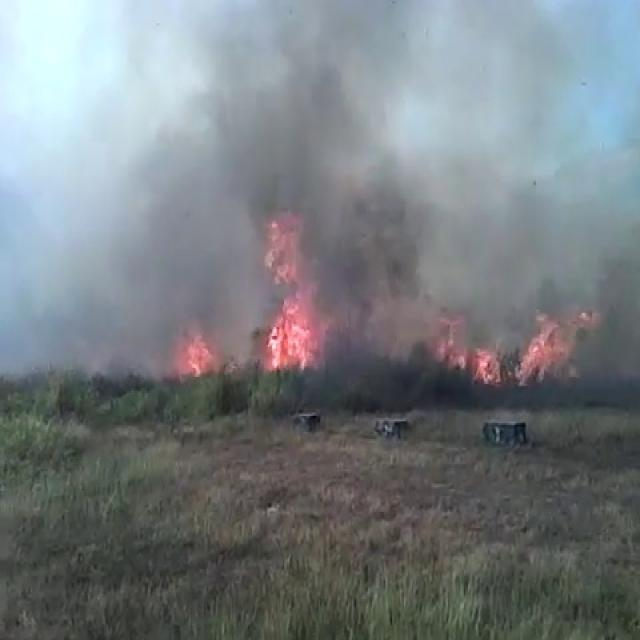Fire: (431, 303, 582, 394), (250, 212, 324, 380), (168, 317, 224, 388)
Smoke: (14, 0, 640, 377)
